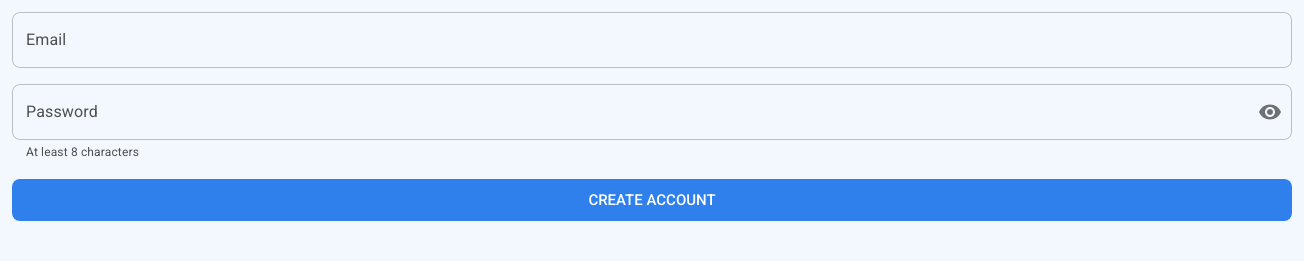
Test: RegisterForm › shows EMAIL_TAKEN under the email field
This screenshot has width=1304, height=261.
Type "ken@example.com" into the field labelled "Email". click: (652, 40)
box: [12,12,1292,68]
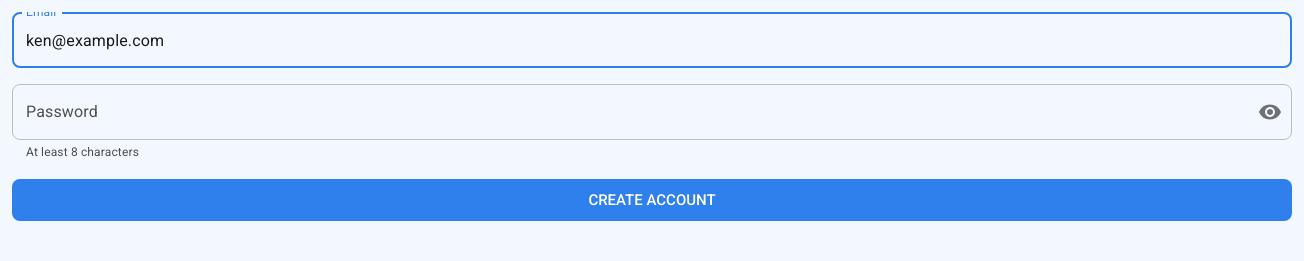
Type "shoryuken-2026" into the password field labelled "Password". click: (627, 112)
box: [12,84,1242,140]
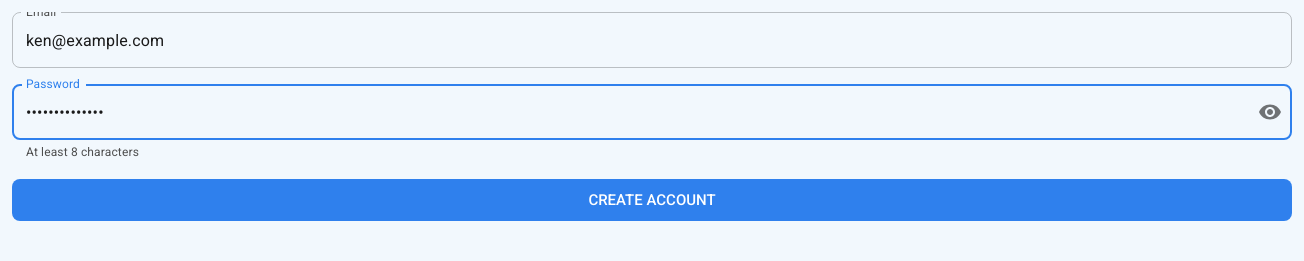
Click the button "Create account". click: click(652, 200)
box: [12,179,1292,221]
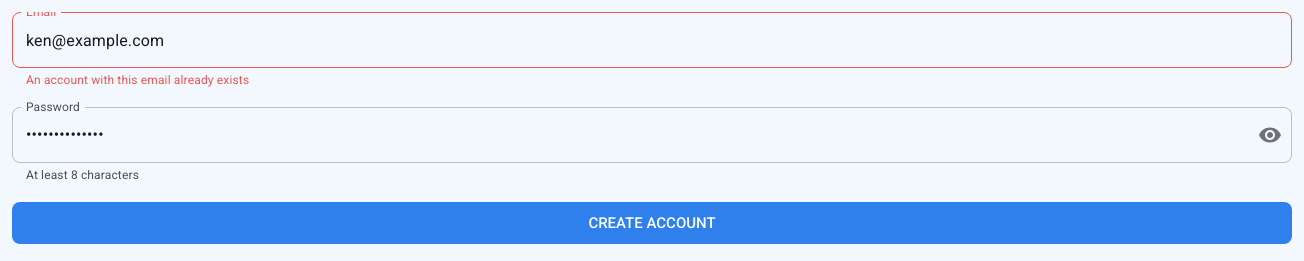
Expected: the text "An account with this email already exists" is shown, [26,73,249,87]
